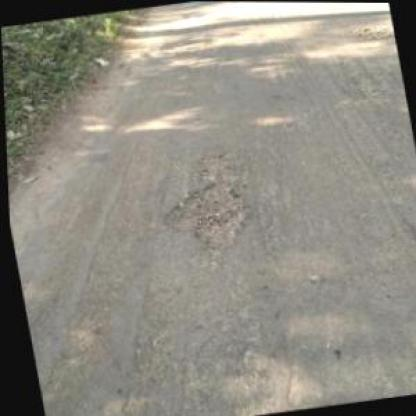pothole: (151, 150, 258, 259), (336, 14, 395, 50)
